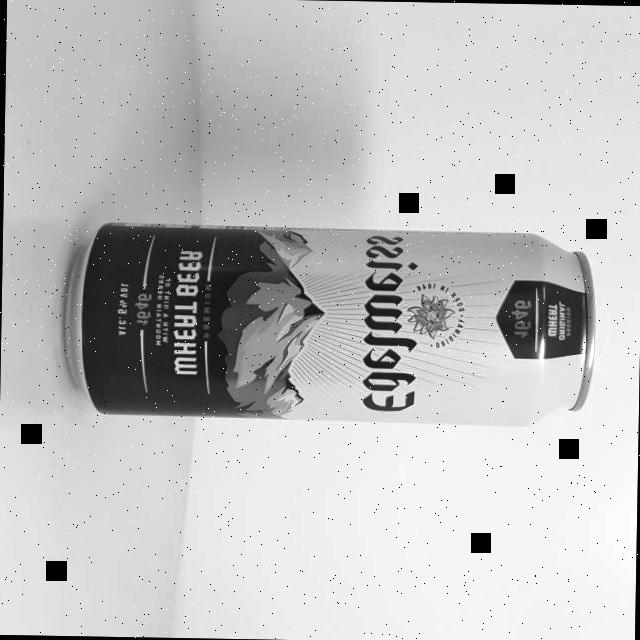can: (60, 220, 596, 428)
